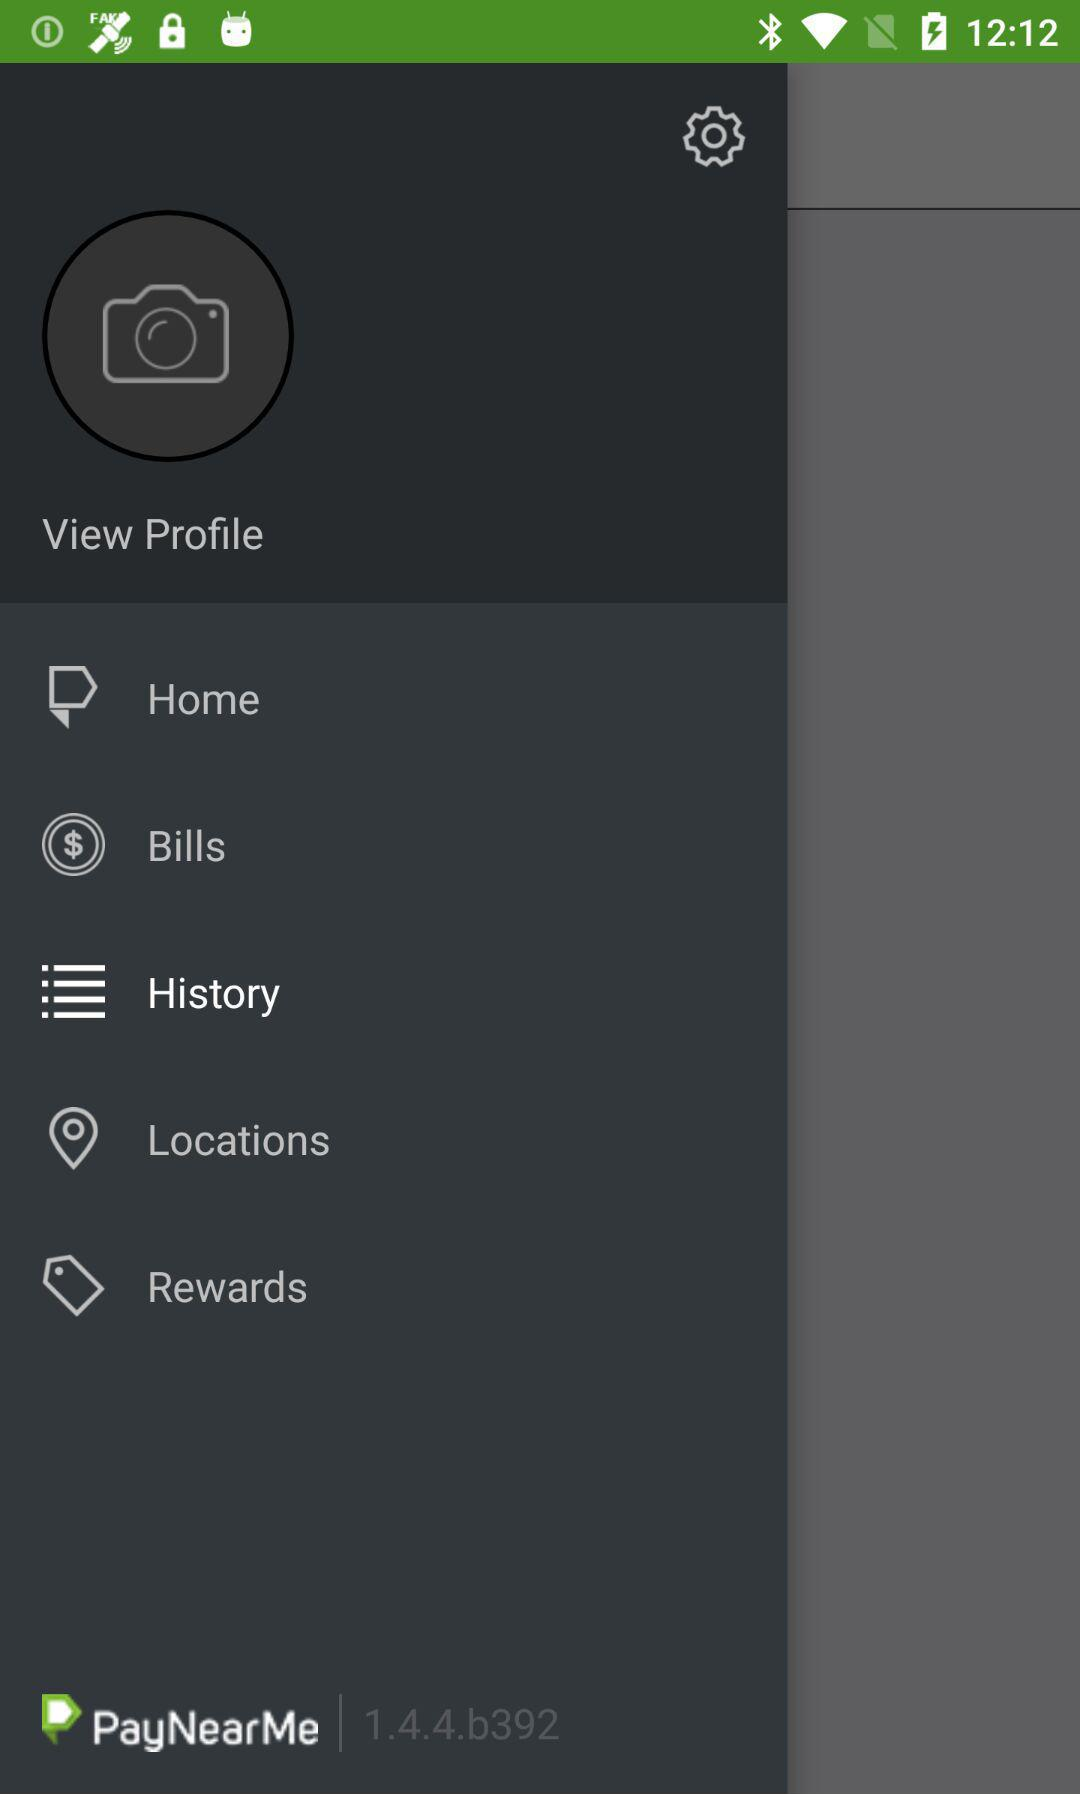Drawer: (1, 64, 787, 1794)
Icon: (42, 210, 297, 464), (42, 812, 108, 879), (682, 105, 747, 170), (42, 1253, 108, 1319), (40, 964, 108, 1023), (47, 664, 101, 730), (47, 1105, 100, 1171), (40, 1691, 85, 1747)
Text: (91, 1709, 319, 1754), (41, 516, 265, 554), (365, 1706, 562, 1741), (149, 1121, 331, 1160), (149, 1269, 310, 1306), (149, 976, 281, 1021), (149, 682, 261, 718), (149, 828, 225, 864)
UpperTaskBar: (1, 1, 1080, 64)
